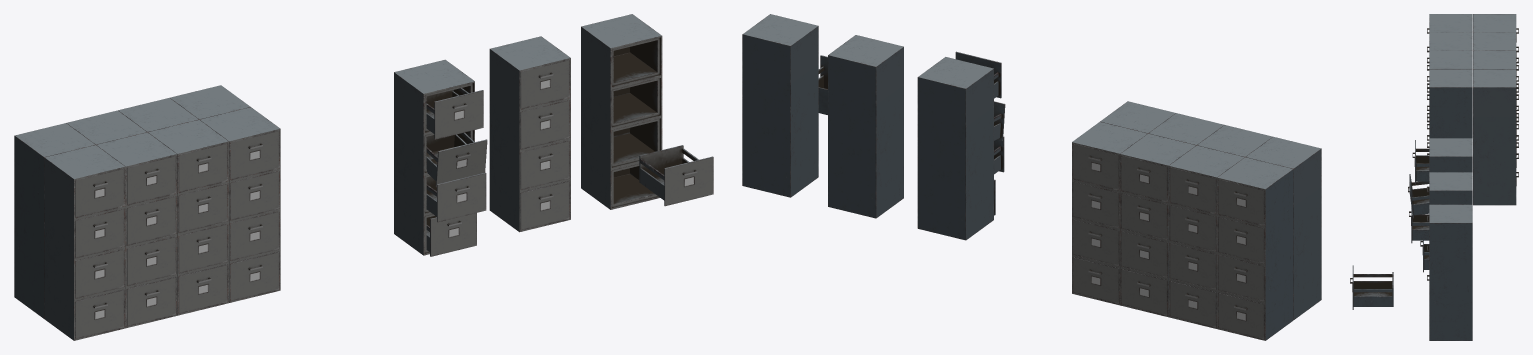
Rendered from filing_cabinet_-_6mb.glb.
The picture shows the model from 3 angles, left to right: view 1: azimuth 30°, elevation 25°; view 2: azimuth 150°, elevation 25°; view 3: azimuth 270°, elevation 25°; orthographic projection. The views are drawn at different scales.
Parts seen in each view (by area): view 1: box_2, box_1, box_6, box, box_5, box_4, box_3, box_10, box_7, box_9, box_8; view 2: box_1, box_2, box_10, box, box_8, box_9, box_7, box_6, box_4, box_3, box_5; view 3: box_2, box_7, box_1, box_3, box, box_8, box_4, box_9, box_10, box_5, box_6.
Boxes of the visible parts, x1,y1,x2,y2 form: box_2: [581, 14, 713, 209]; box_1: [394, 59, 487, 256]; box_6: [44, 145, 125, 340]; box: [489, 36, 570, 232]; box_5: [96, 132, 177, 328]; box_4: [148, 119, 228, 315]; box_3: [200, 107, 280, 302]; box_10: [14, 123, 95, 318]; box_7: [170, 85, 250, 119]; box_9: [66, 110, 146, 144]; box_8: [118, 98, 198, 132]; box_1: [917, 51, 1005, 240]; box_2: [742, 14, 827, 197]; box_10: [1217, 157, 1293, 340]; box: [828, 35, 903, 218]; box_8: [1120, 133, 1196, 317]; box_9: [1169, 145, 1244, 328]; box_7: [1072, 122, 1147, 305]; box_6: [1245, 136, 1321, 320]; box_4: [1148, 113, 1224, 145]; box_3: [1100, 101, 1175, 133]; box_5: [1197, 125, 1272, 156]; box_2: [1350, 204, 1472, 340]; box_7: [1473, 69, 1518, 205]; box_1: [1408, 138, 1472, 272]; box_3: [1427, 69, 1472, 147]; box: [1427, 172, 1472, 280]; box_8: [1473, 50, 1518, 167]; box_4: [1427, 50, 1472, 155]; box_9: [1473, 32, 1518, 145]; box_10: [1473, 14, 1518, 127]; box_5: [1427, 32, 1472, 140]; box_6: [1427, 14, 1472, 122].
Bounding box in the file's own units: 4.57 × 1.2 × 1.56.
1 material, 1 textured.
